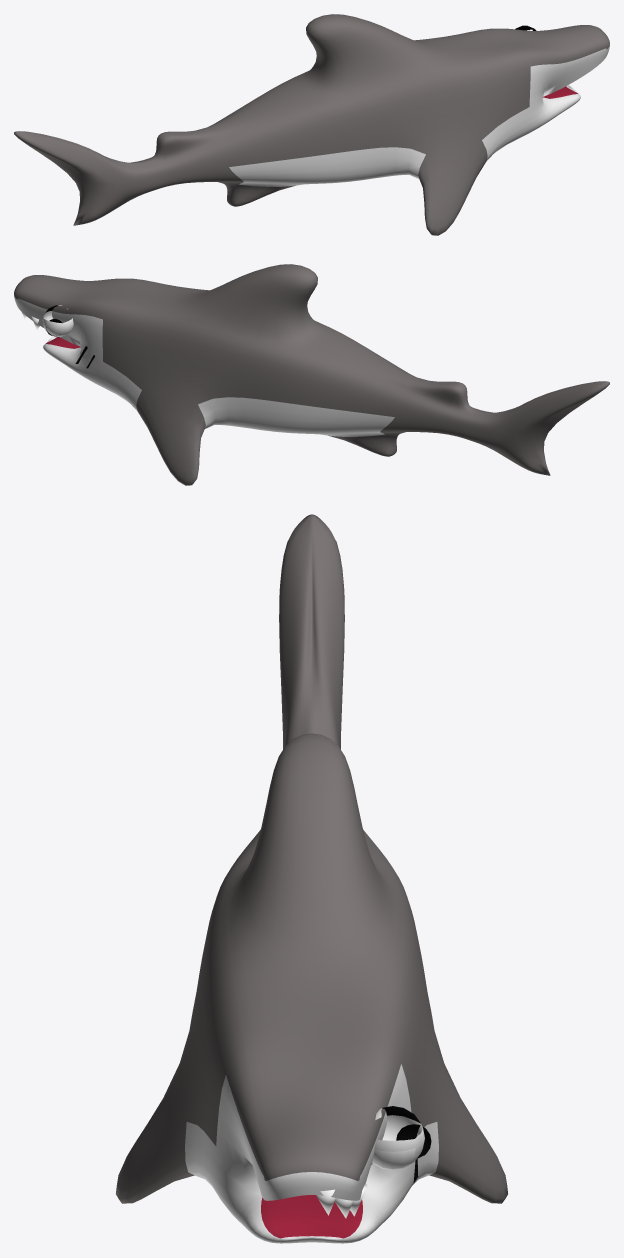
The model's file is shark.gltf.
The picture shows the model from 3 angles, top to bottom: view 1: azimuth 30°, elevation 25°; view 2: azimuth 150°, elevation 25°; view 3: azimuth 270°, elevation 25°; orthographic projection. The views are drawn at different scales.
Visible parts, largest first — view 1: Cube.001; view 2: Cube.001, Cube.005; view 3: Cube.001, Cube.005.
Boxes of the visible parts, left/top/right/bottom form: Cube.001: left=14, top=14, right=609, bottom=235; Cube.001: left=14, top=264, right=609, bottom=485; Cube.005: left=42, top=305, right=73, bottom=337; Cube.001: left=116, top=514, right=507, bottom=1243; Cube.005: left=372, top=1106, right=431, bottom=1170.
Bounding box in the file's own units: 12.55 × 4.03 × 3.62.
